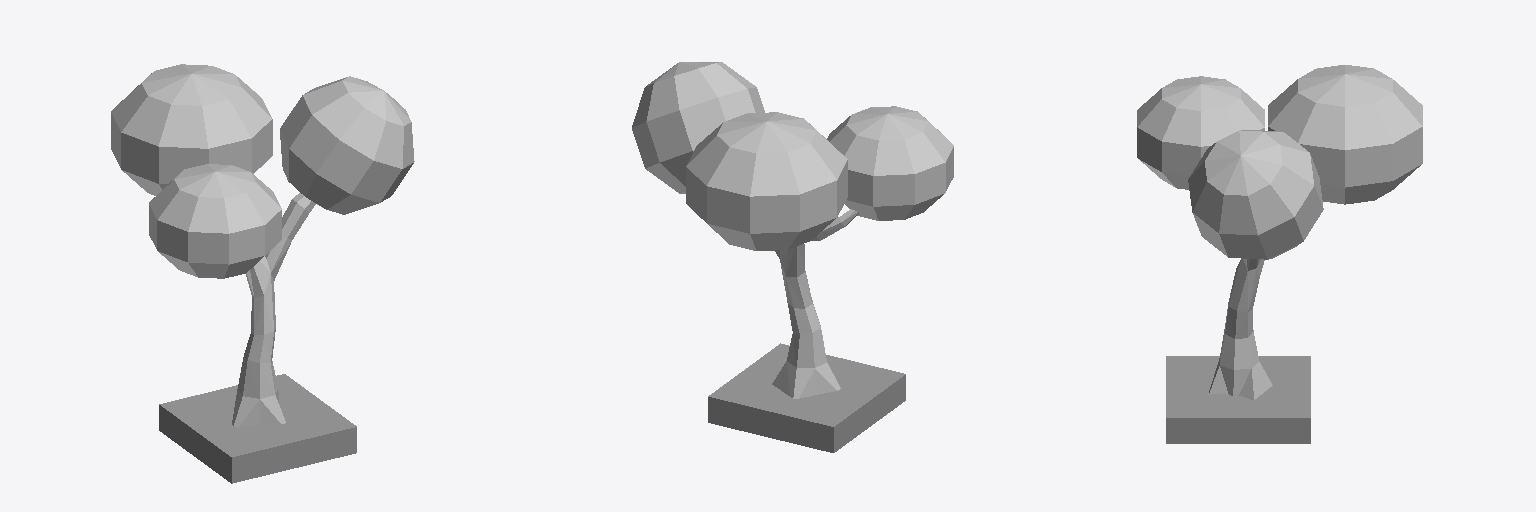
File: BaseTree.obj
3 views of the same model, side by side, from view 1: azimuth 30°, elevation 25°; view 2: azimuth 150°, elevation 25°; view 3: azimuth 270°, elevation 25° (orthographic).
Parts seen in each view (by area): view 1: Cylinder, Cube; view 2: Cylinder, Cube; view 3: Cylinder, Cube.
Part boxes in pixels (x1,y1,x2,y2): Cylinder: (111, 64, 414, 426); Cube: (159, 374, 356, 483); Cylinder: (632, 62, 953, 398); Cube: (708, 343, 905, 452); Cylinder: (1137, 65, 1422, 399); Cube: (1166, 356, 1310, 443).
Size of the model in its own units: 2.2 by 2.53 by 1.97.